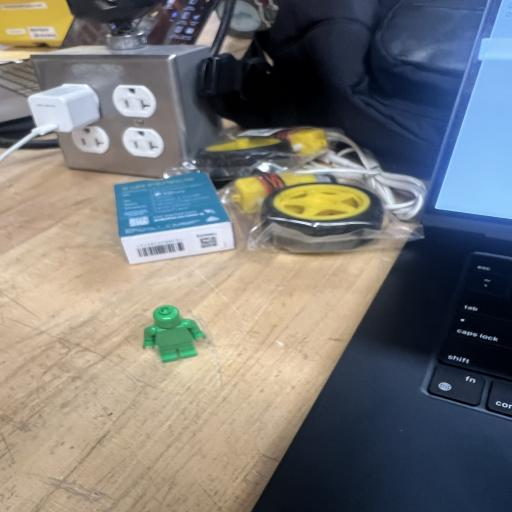green-lego-minifigure-detector: (143, 305, 205, 362)
